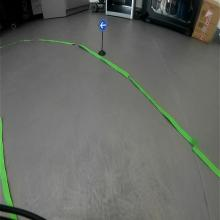left: (98, 19, 108, 31)
